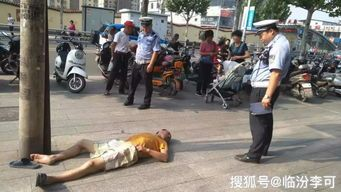10+: (2, 7, 293, 187)
down: (25, 111, 179, 184)
